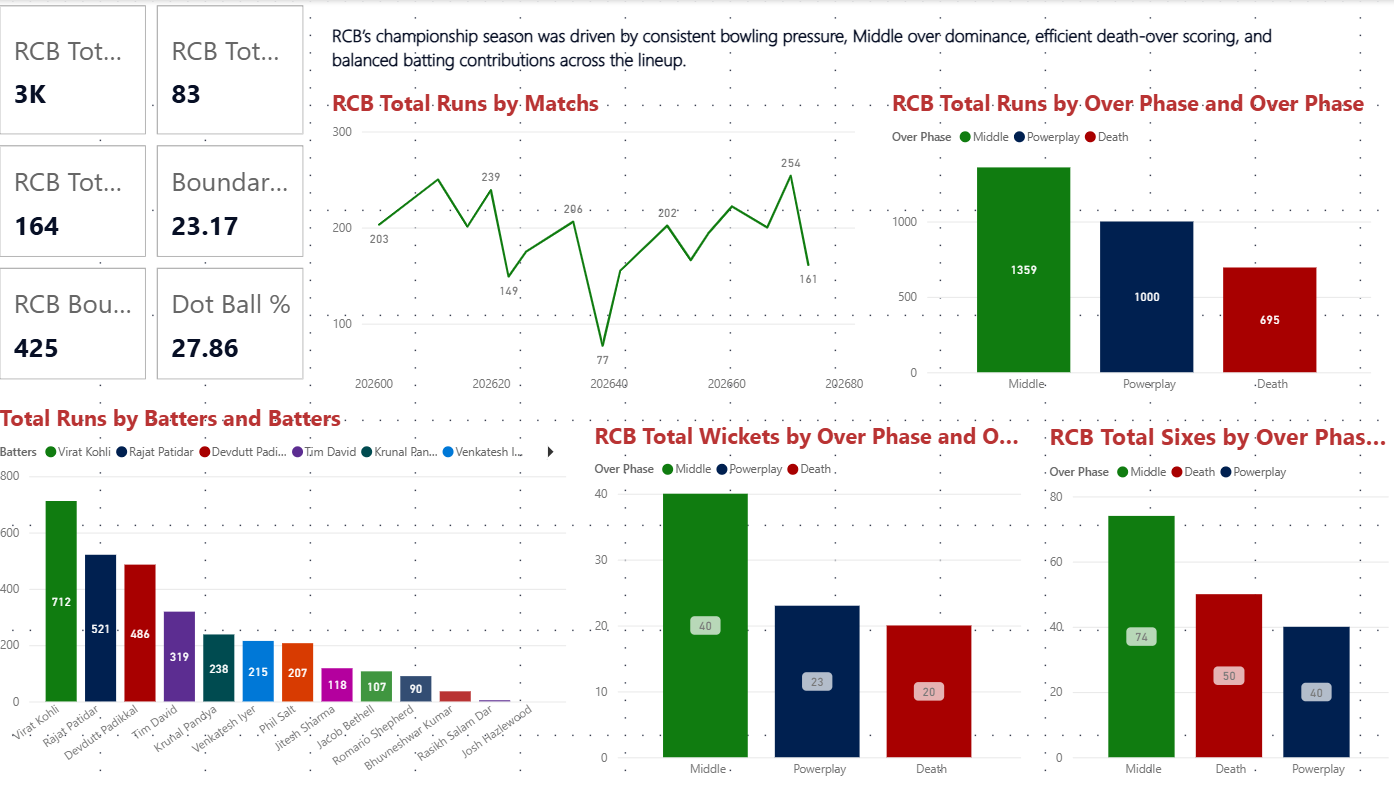

What the dashboard file says about the page in this screenshot:
{"tool":"powerbi","page":{"name":"RCB champship analysis","canvas":[1280,720],"ordinal":1},"visuals":[{"type":"cardVisual","fields":{"Data":["ipl_2026_cleaned.RCB_total_runs"]},"box":[0,0,144,128],"z":0},{"type":"cardVisual","fields":{"Data":["ipl_2026_cleaned.RCB total wickets"]},"box":[144,0,144,128],"z":1000},{"type":"cardVisual","fields":{"Data":["ipl_2026_cleaned.rcb total sixes"]},"box":[0,112,160,128],"z":2000},{"type":"cardVisual","fields":{"Data":["ipl_2026_cleaned.rcb boundaries"]},"box":[0,240,176,128],"z":3000},{"type":"lineChart","fields":{"Y":["ipl_2026_cleaned.RCB_total_runs"],"Category":["ipl_2026_cleaned.match_id"]},"box":[320,80,496,288],"z":4000},{"type":"columnChart","fields":{"Category":["ipl_2026_cleaned.over_phase"],"Y":["ipl_2026_cleaned.RCB_total_runs"],"Series":["ipl_2026_cleaned.over_phase"]},"box":[832,80,448,288],"z":5000},{"type":"lineStackedColumnComboChart","fields":{"Category":["ipl_2026_cleaned.over_phase"],"Y":["ipl_2026_cleaned.RCB total wickets"],"Series":["ipl_2026_cleaned.over_phase"]},"box":[528,384,400,336],"z":6000},{"type":"columnChart","fields":{"Category":["ipl_2026_cleaned.striker"],"Y":["Sum(ipl_2026_cleaned.total_runs)"],"Series":["ipl_2026_cleaned.striker"]},"box":[0,368,528,352],"z":7000},{"type":"lineStackedColumnComboChart","fields":{"Category":["ipl_2026_cleaned.over_phase"],"Y":["ipl_2026_cleaned.rcb total sixes"],"Series":["ipl_2026_cleaned.over_phase"]},"box":[960,384,320,336],"z":8000},{"type":"cardVisual","fields":{"Data":["ipl_2026_cleaned.Boundary %"]},"box":[160,128,144,112],"z":9000},{"type":"cardVisual","fields":{"Data":["ipl_2026_cleaned.Dot Ball %"]},"box":[160,256,144,128],"z":10000},{"type":"textbox","box":[304,16,928,64],"z":11000}]}

Visuals, with their boxes in screenshot pixels (x1, y1, x2, y2), scaled from the page's 1280x720 canvas onto the 1394x787 screenshot:
cardVisual - ipl_2026_cleaned.RCB_total_runs: BBox(0, 0, 157, 140)
cardVisual - ipl_2026_cleaned.RCB total wickets: BBox(157, 0, 314, 140)
cardVisual - ipl_2026_cleaned.rcb total sixes: BBox(0, 122, 174, 262)
cardVisual - ipl_2026_cleaned.rcb boundaries: BBox(0, 262, 192, 402)
lineChart - ipl_2026_cleaned.RCB_total_runs x ipl_2026_cleaned.match_id: BBox(348, 87, 889, 402)
columnChart - ipl_2026_cleaned.over_phase x ipl_2026_cleaned.RCB_total_runs: BBox(906, 87, 1393, 402)
lineStackedColumnComboChart - ipl_2026_cleaned.over_phase x ipl_2026_cleaned.RCB total wickets: BBox(575, 420, 1011, 786)
columnChart - ipl_2026_cleaned.striker x Sum(ipl_2026_cleaned.total_runs): BBox(0, 402, 575, 786)
lineStackedColumnComboChart - ipl_2026_cleaned.over_phase x ipl_2026_cleaned.rcb total sixes: BBox(1046, 420, 1393, 786)
cardVisual - ipl_2026_cleaned.Boundary %: BBox(174, 140, 331, 262)
cardVisual - ipl_2026_cleaned.Dot Ball %: BBox(174, 280, 331, 420)
textbox: BBox(331, 17, 1342, 87)
